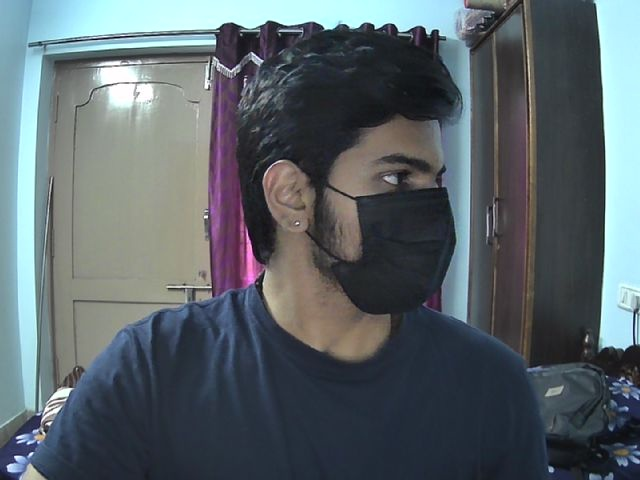Mask: (312, 189, 455, 314)
